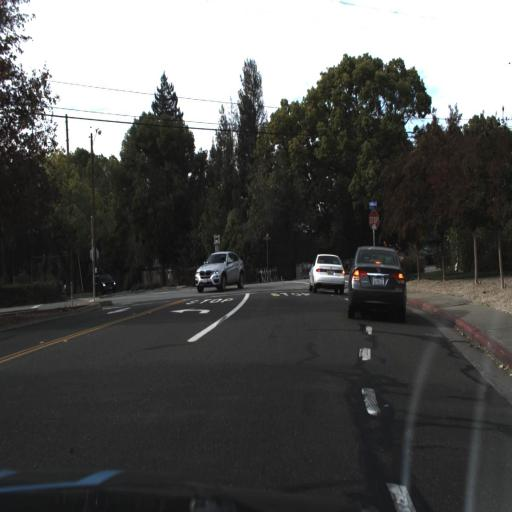car: (344, 241, 412, 317), (193, 246, 251, 296), (304, 245, 349, 300), (91, 266, 118, 296)
